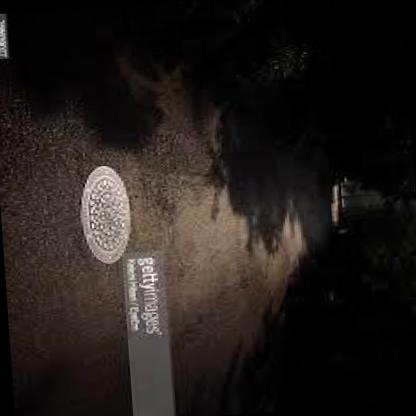manholes: (58, 146, 172, 283)
